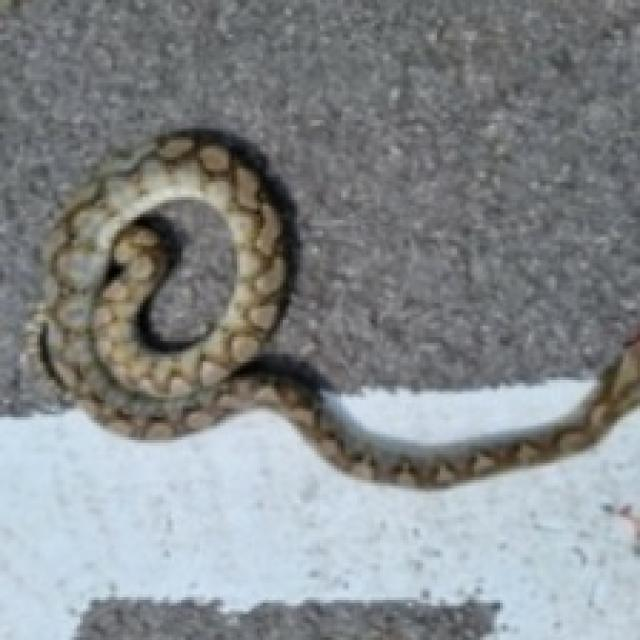reticulated python: (29, 131, 637, 483)
